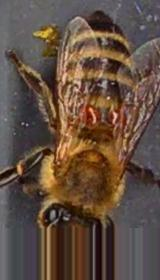varroa_mite: (78, 99, 98, 128), (108, 104, 125, 128)
